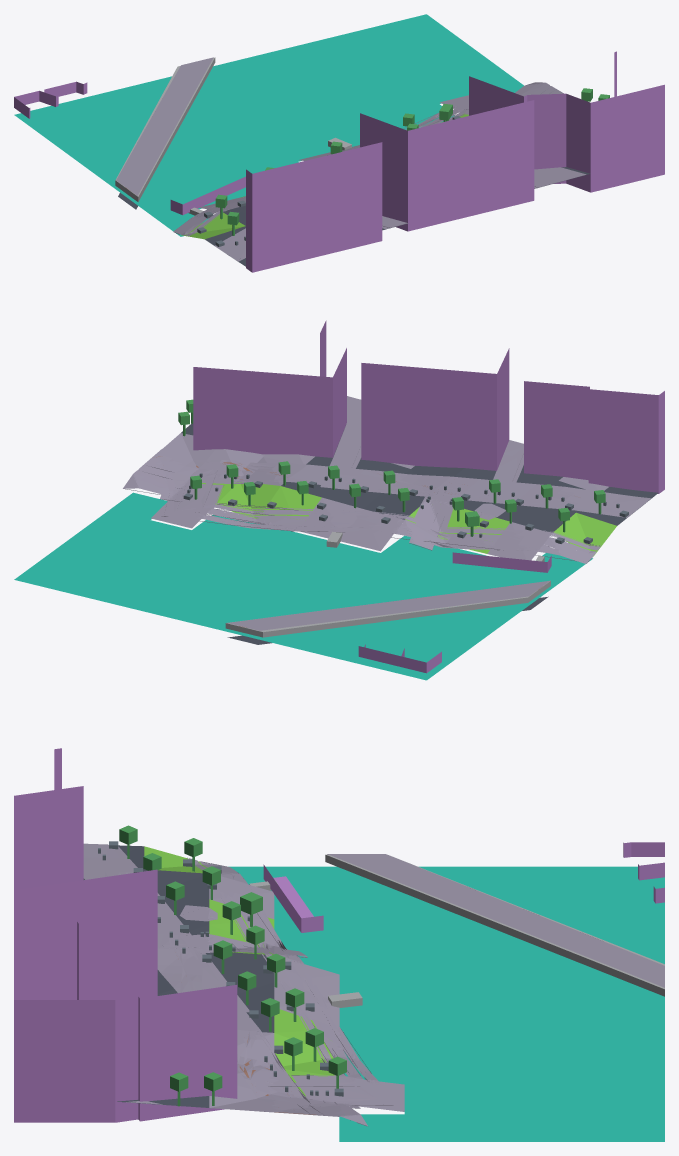
3 renders of one model, top to bottom at view 1: azimuth 30°, elevation 25°; view 2: azimuth 150°, elevation 25°; view 3: azimuth 270°, elevation 25°, orthographic. The views are drawn at different scales.
Parts seen in each view (by area): view 1: compiled-chunk; view 2: compiled-chunk; view 3: compiled-chunk.
Boxes of the visible parts, x1=… form: compiled-chunk: x1=14, y1=14, x2=664, y2=272; compiled-chunk: x1=14, y1=320, x2=664, y2=680; compiled-chunk: x1=14, y1=748, x2=664, y2=1141.
Bounding box in the file's own units: 122 × 35.04 × 120.
